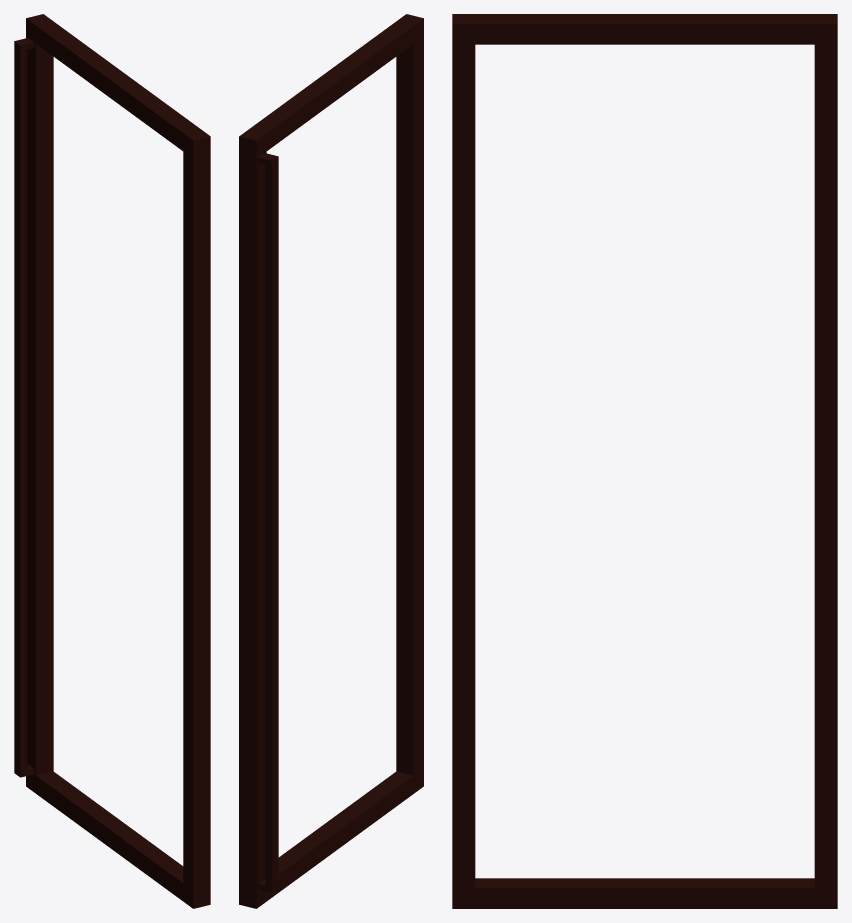
File: Door frame.fbx
3 renders of one model, left to right at view 1: azimuth 30°, elevation 25°; view 2: azimuth 150°, elevation 25°; view 3: azimuth 270°, elevation 25°, orthographic. The views are drawn at different scales.
Parts seen in each view (by area): view 1: Cube.015; view 2: Cube.015; view 3: Cube.015.
Part boxes in pixels (x1,y1,x2,y2): Cube.015: (14, 14, 210, 908); Cube.015: (239, 14, 423, 908); Cube.015: (452, 14, 837, 908).
Bounding box in the file's own units: 1.14 × 26.69 × 10.54.
